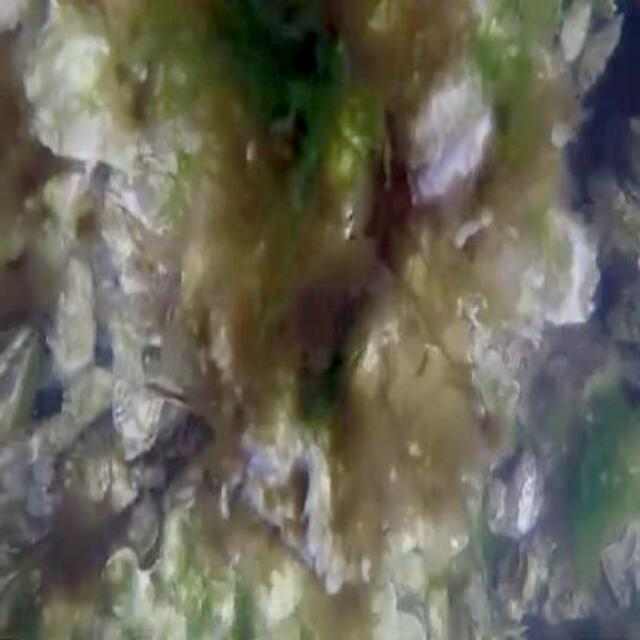Oyster-Closed: (23, 0, 140, 174), (402, 54, 493, 198), (493, 200, 595, 328), (106, 322, 166, 460), (46, 254, 98, 376)
Oyster-Open: (245, 433, 332, 575), (108, 488, 186, 610), (558, 2, 620, 96), (486, 436, 542, 534), (586, 162, 640, 260), (594, 510, 640, 612), (0, 323, 42, 429), (510, 540, 546, 610)
